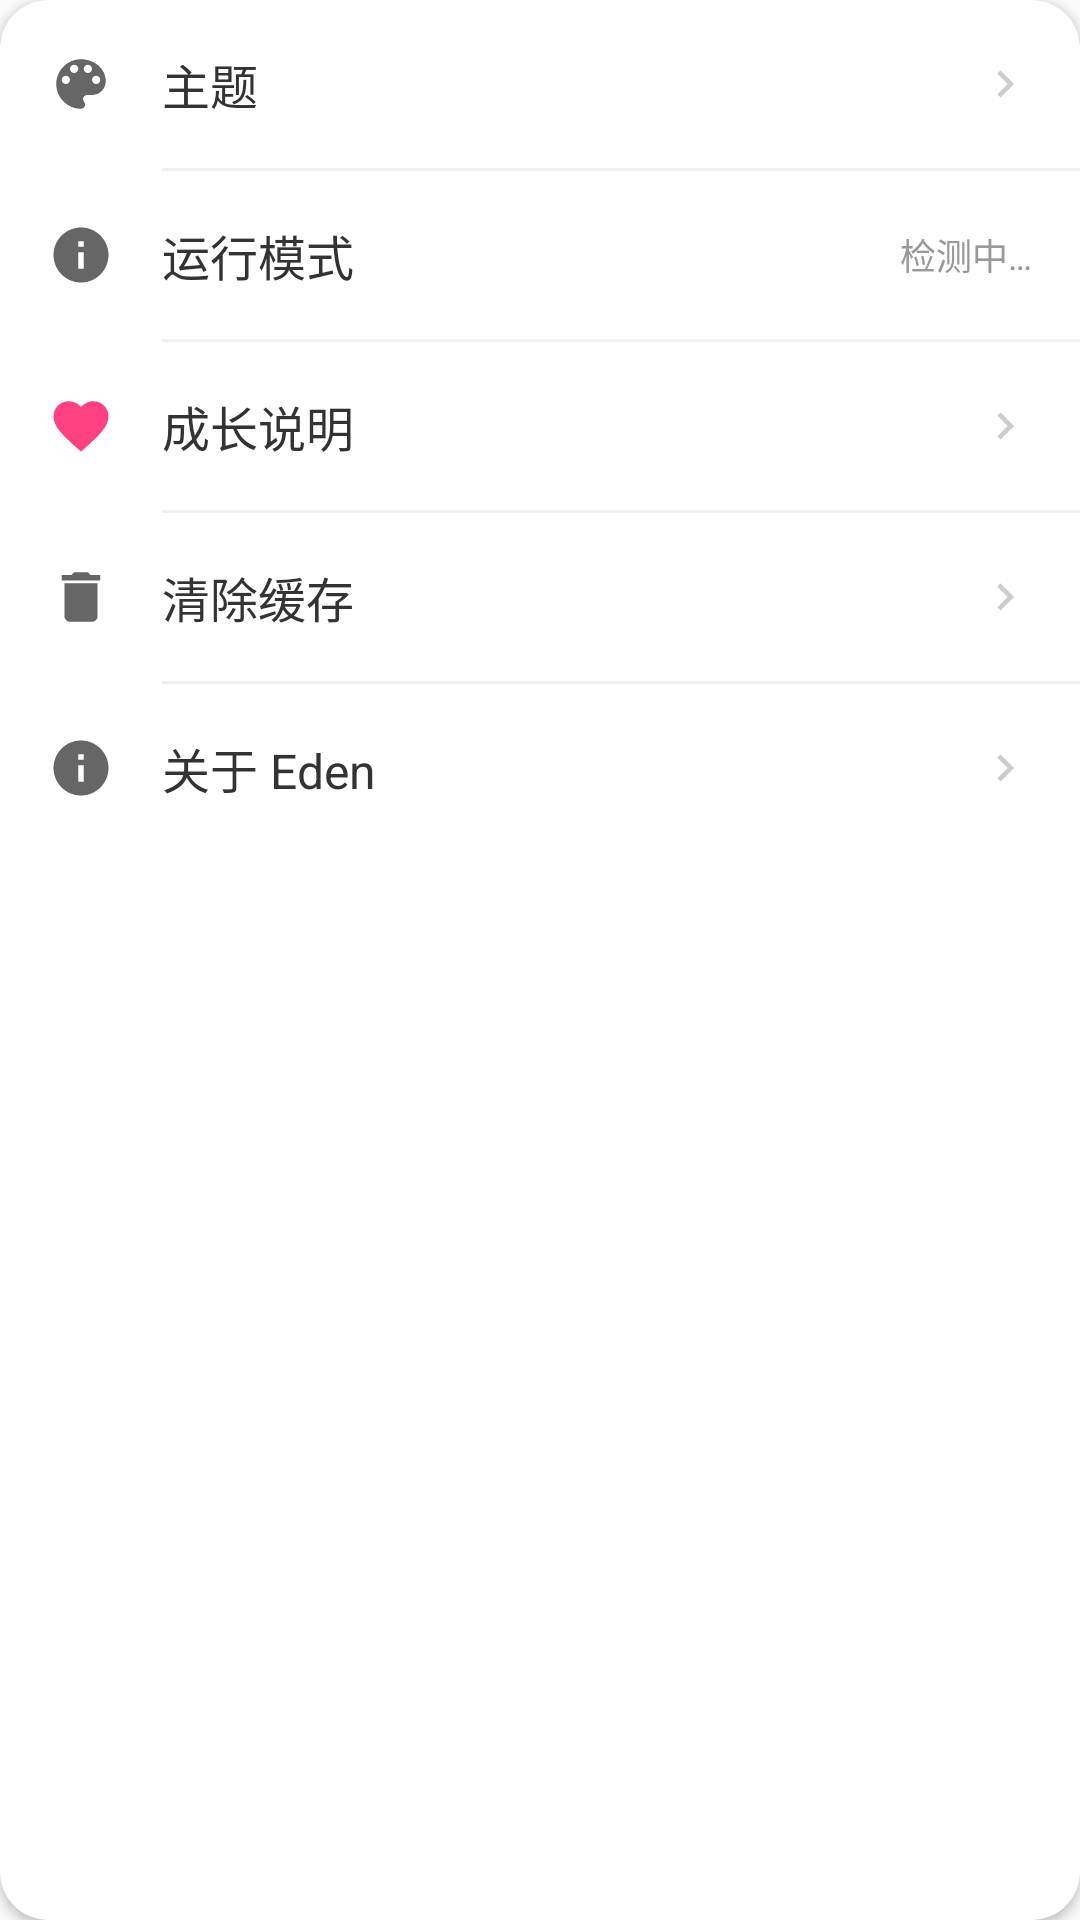

Where icons sit on this 1080px×1920px app screen, as (x1, y1, x2, y2):
chevron right: (997, 71, 1014, 97), (997, 413, 1014, 439), (997, 584, 1014, 610), (997, 755, 1014, 781)
delete: (61, 572, 101, 622)
heart: (53, 401, 109, 452)
info: (53, 227, 109, 283), (53, 740, 109, 796)
palette: (56, 59, 106, 109)
